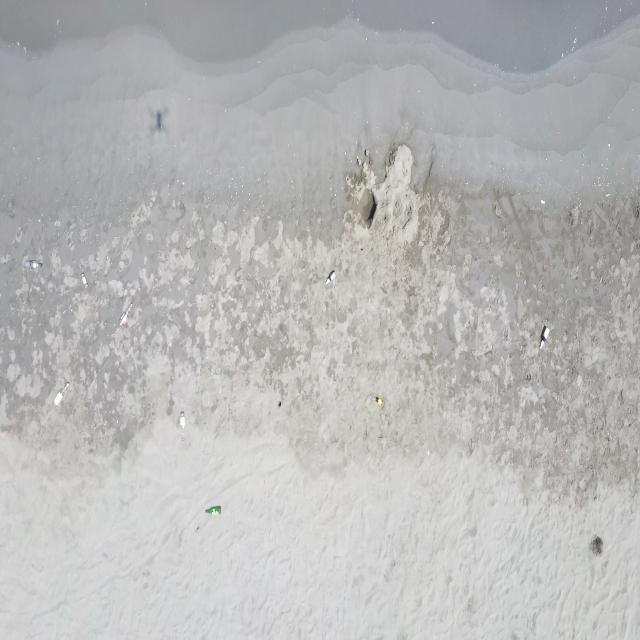glass: (53, 382, 70, 406), (118, 302, 134, 327), (560, 40, 578, 59), (539, 326, 550, 350), (179, 410, 186, 442), (325, 269, 336, 285), (205, 506, 222, 516), (24, 261, 42, 270), (81, 272, 89, 289), (374, 395, 383, 407)
